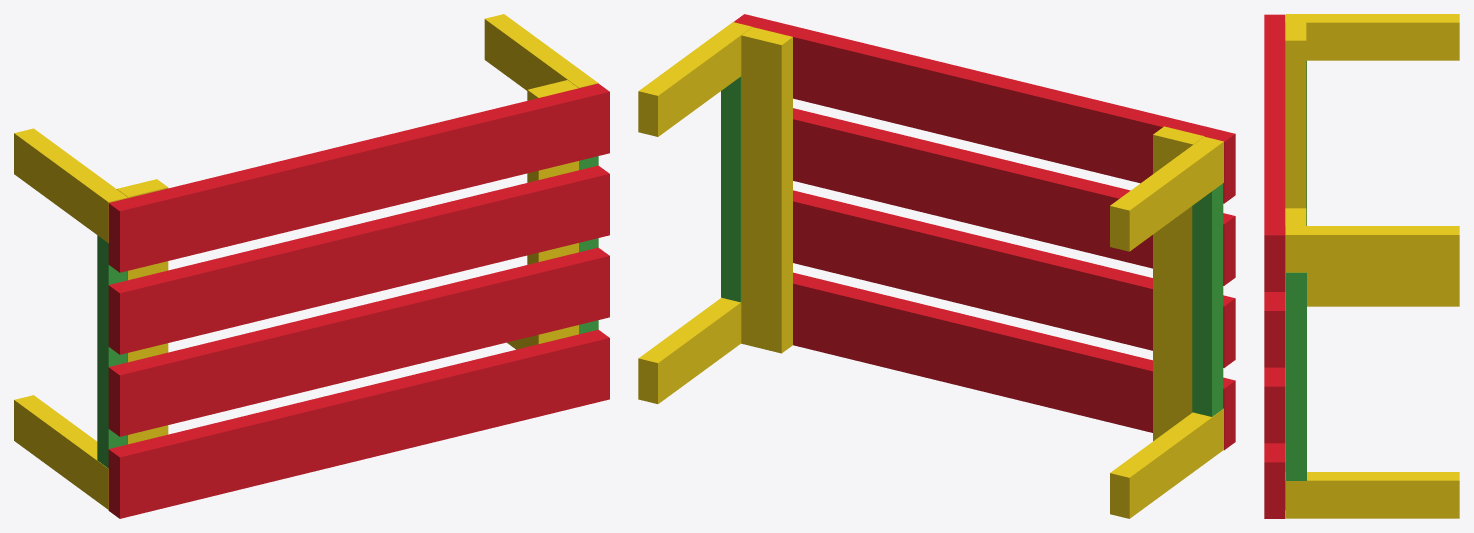
Rendered from tinker.obj.
3 renders of one model, left to right at view 1: azimuth 30°, elevation 25°; view 2: azimuth 150°, elevation 25°; view 3: azimuth 270°, elevation 25°, orthographic. The views are drawn at different scales.
Parts seen in each view (by area): view 1: group_0_15277357, group_0_16768282, group_0_4634441; view 2: group_0_15277357, group_0_16768282, group_0_4634441; view 3: group_0_16768282, group_0_15277357, group_0_4634441.
Boxes of the visible parts, x1=… form: group_0_15277357: x1=108, y1=83, x2=609, y2=518; group_0_16768282: x1=14, y1=14, x2=598, y2=509; group_0_4634441: x1=97, y1=156, x2=598, y2=468; group_0_15277357: x1=734, y1=14, x2=1235, y2=450; group_0_16768282: x1=638, y1=22, x2=1223, y2=518; group_0_4634441: x1=721, y1=76, x2=1223, y2=416; group_0_16768282: x1=1285, y1=14, x2=1459, y2=518; group_0_15277357: x1=1264, y1=14, x2=1285, y2=518; group_0_4634441: x1=1286, y1=60, x2=1306, y2=480.
Size of the model in its own units: 300 by 181 by 112.
